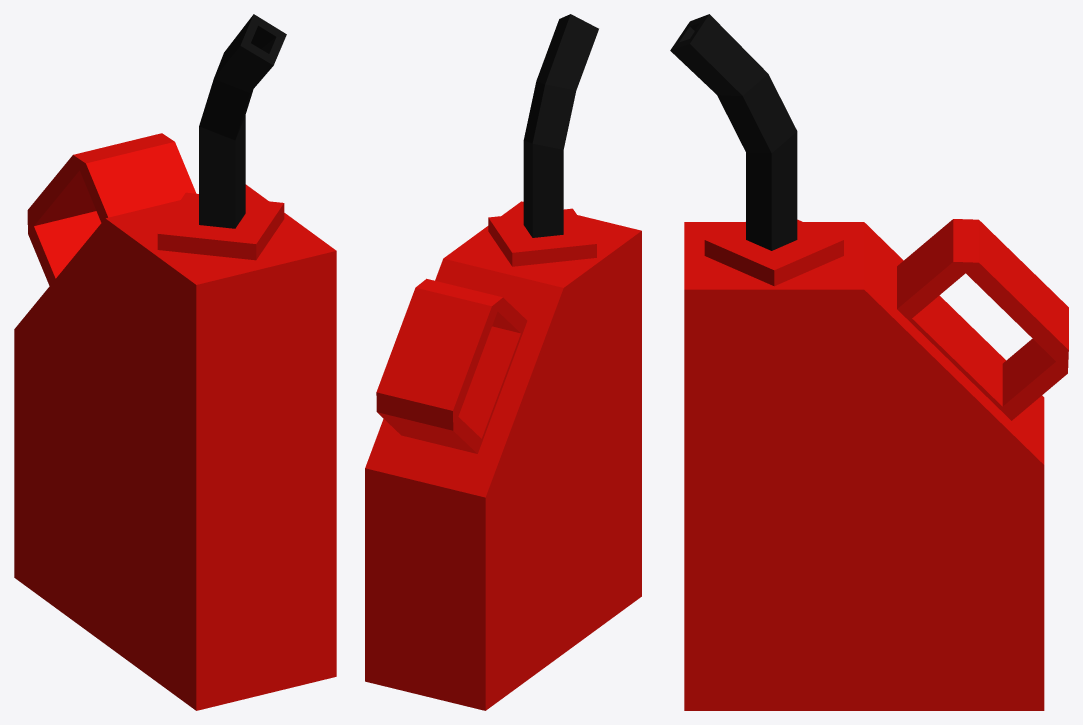
The model's file is gas Can.fbx.
The picture shows the model from 3 angles, left to right: view 1: azimuth 30°, elevation 25°; view 2: azimuth 150°, elevation 25°; view 3: azimuth 270°, elevation 25°; orthographic projection. The views are drawn at different scales.
Parts seen in each view (by area): view 1: Cube; view 2: Cube; view 3: Cube.
Part boxes in pixels (x1,y1,x2,y2): Cube: [14, 14, 336, 710]; Cube: [365, 14, 641, 710]; Cube: [670, 14, 1068, 710].
Bounding box in the file's own units: 48.63 × 222 × 121.
